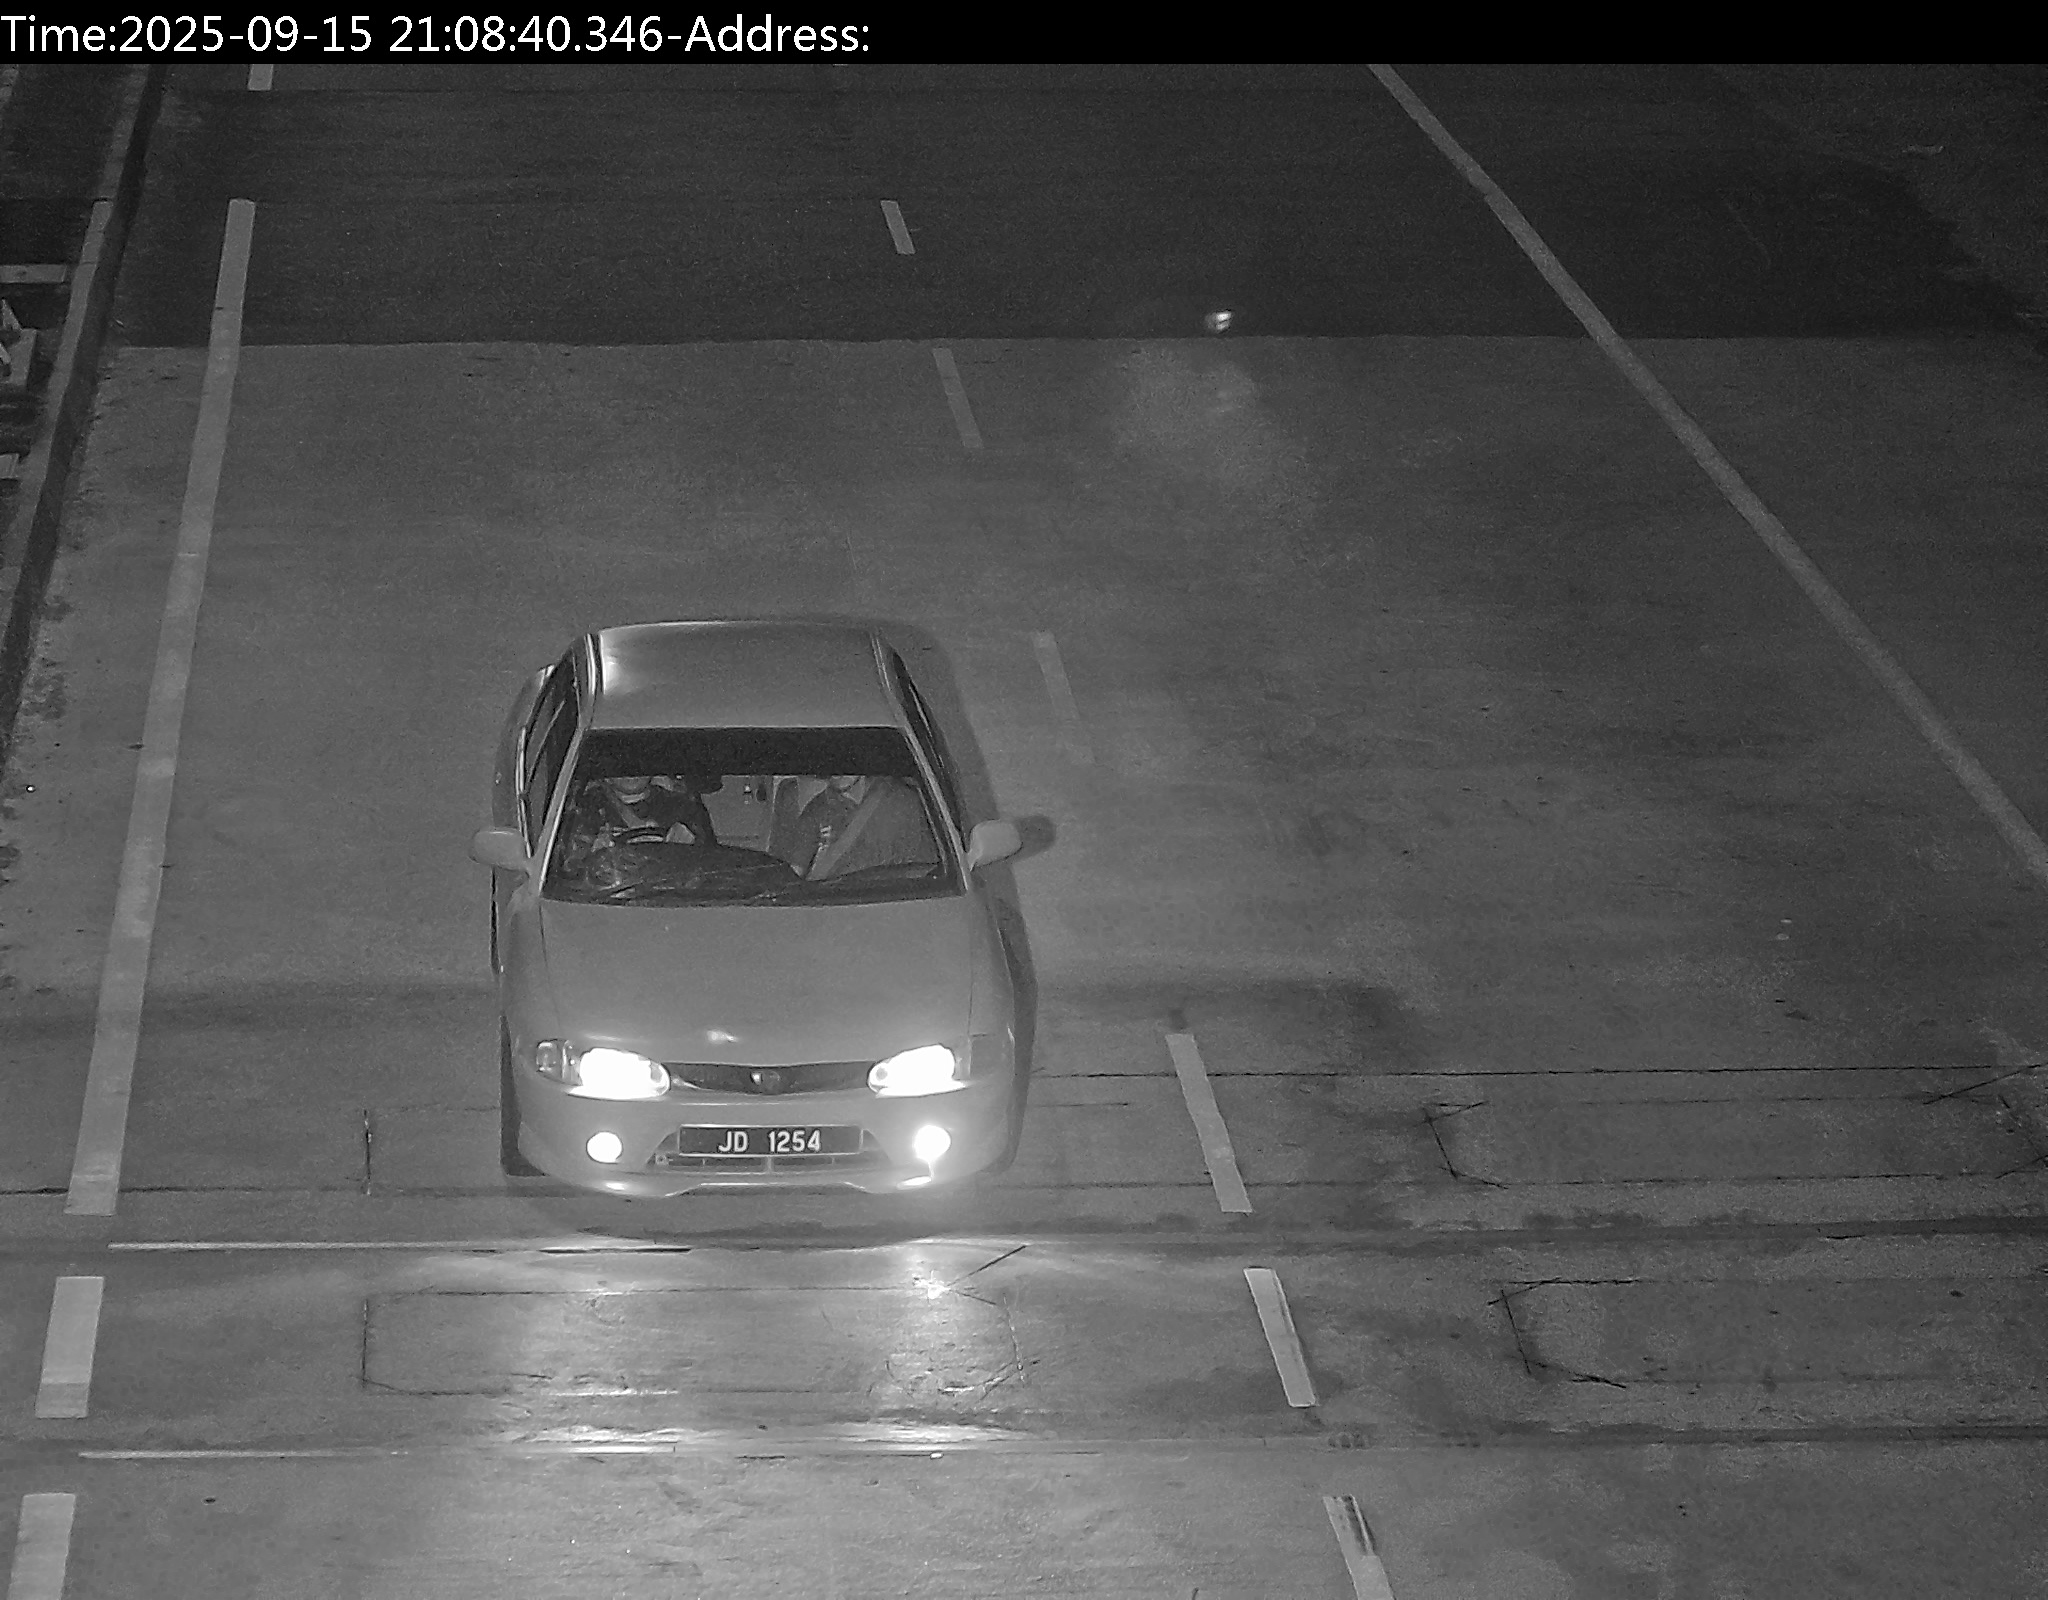class1_lightVehicle: (495, 629, 1025, 1200)
license_plate: (709, 1122, 845, 1157)
